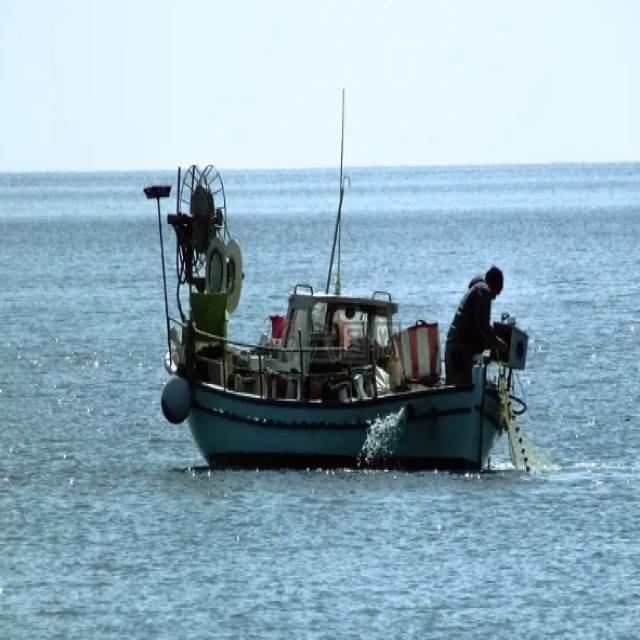fishing boat: (149, 159, 524, 484)
